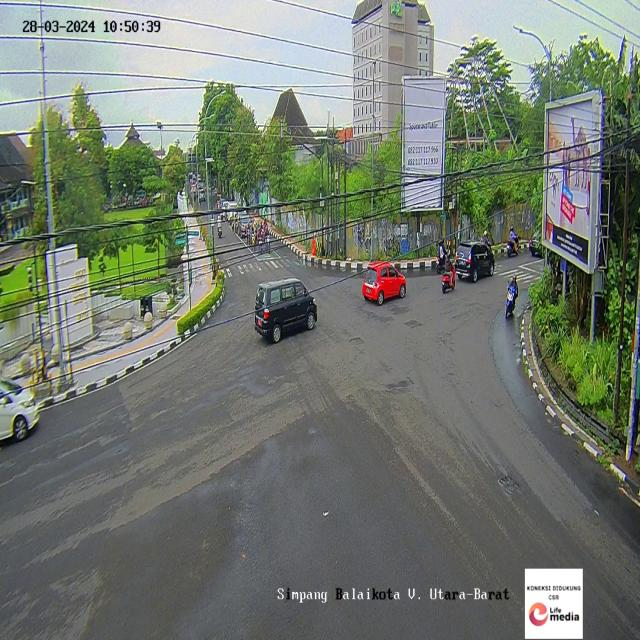car: (254, 278, 318, 344), (0, 379, 40, 450), (361, 264, 408, 304), (452, 242, 494, 281)
motorcycle: (505, 272, 520, 323), (441, 254, 456, 296), (507, 225, 521, 259), (436, 240, 450, 272), (257, 226, 264, 254), (265, 226, 272, 253), (216, 216, 223, 240)
